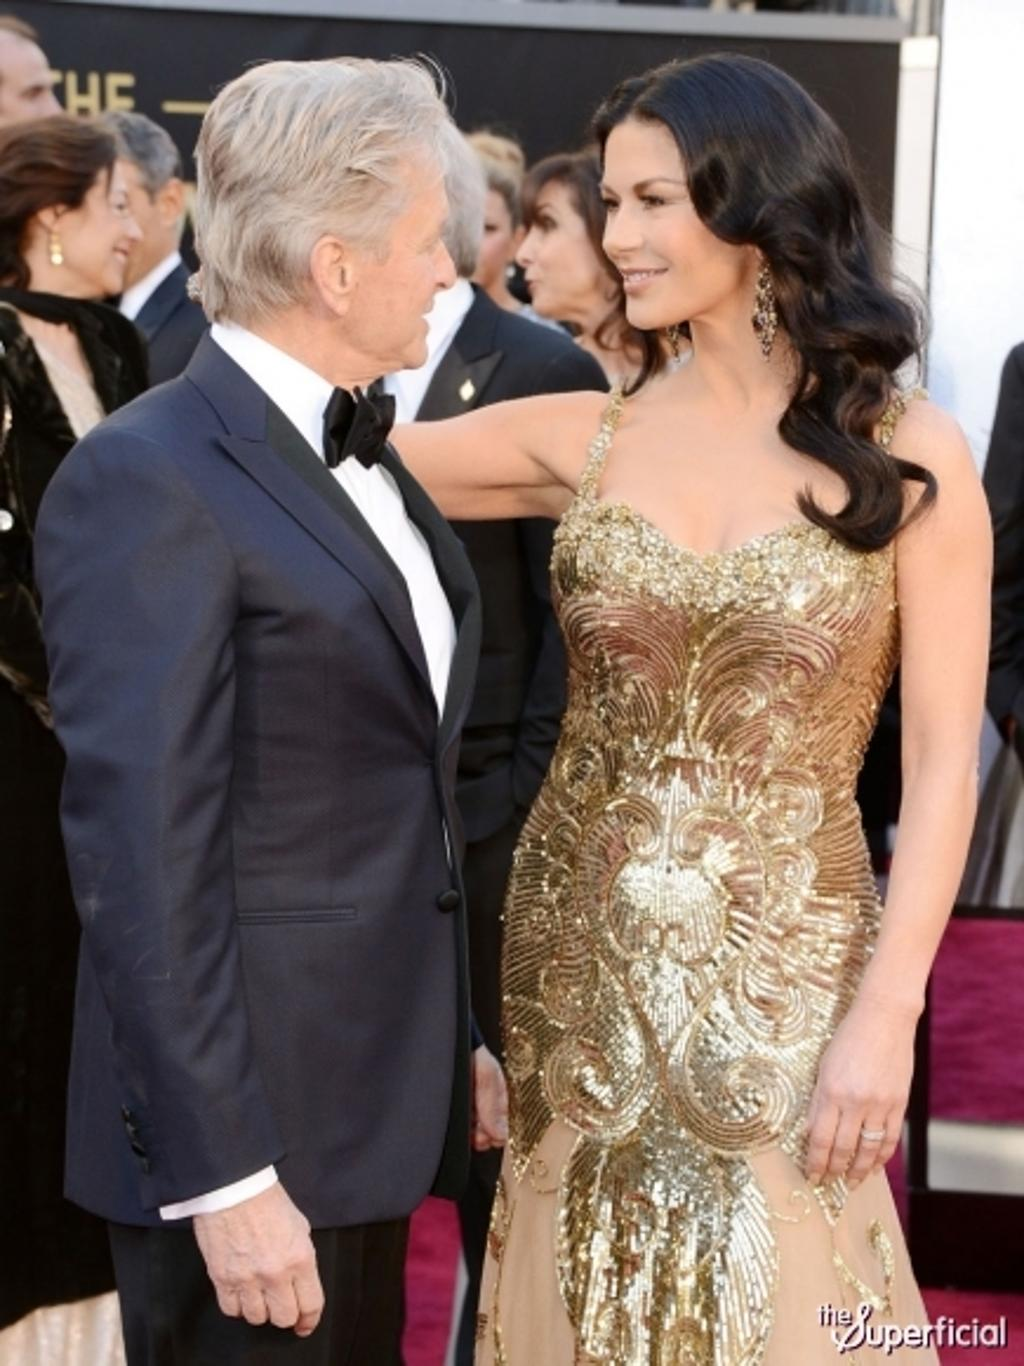face: (348, 146, 456, 369), (599, 130, 717, 329), (74, 137, 159, 286), (56, 157, 142, 295), (515, 186, 597, 313), (0, 44, 64, 176), (446, 186, 509, 289)
